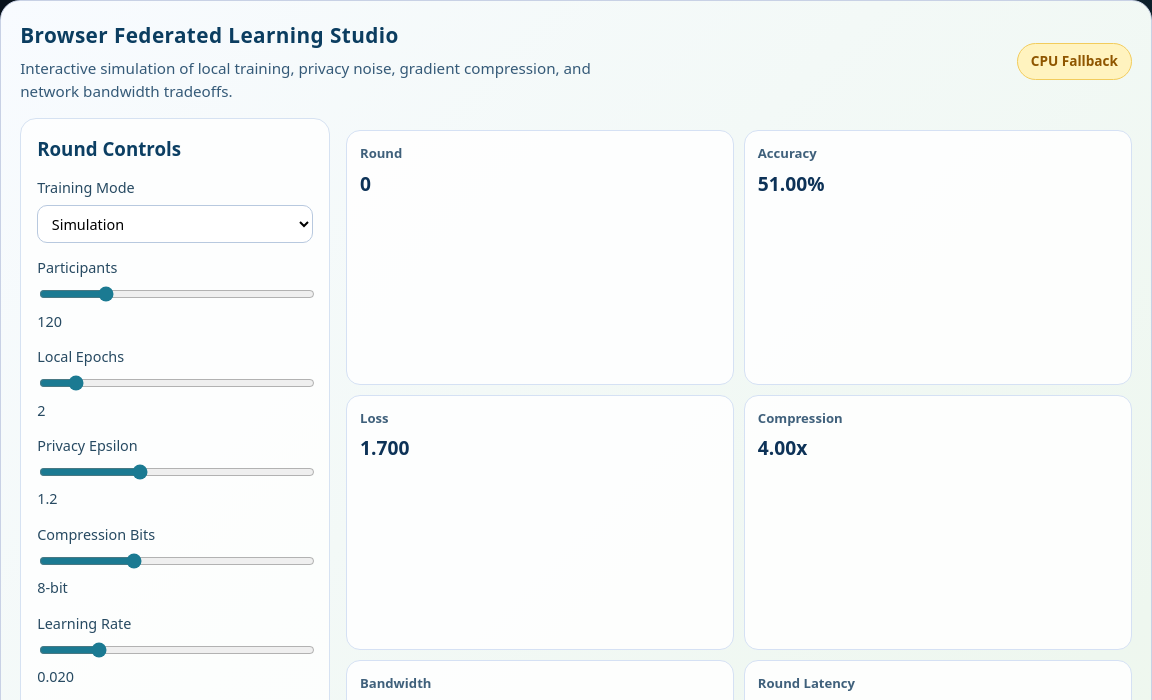
Test: BrowserFLDemo Component › User Input › updates epsilon slider
Set the slider labelled "Privacy Epsilon 1.2" to "2.0" at (214, 472), box [39,464,315,480]
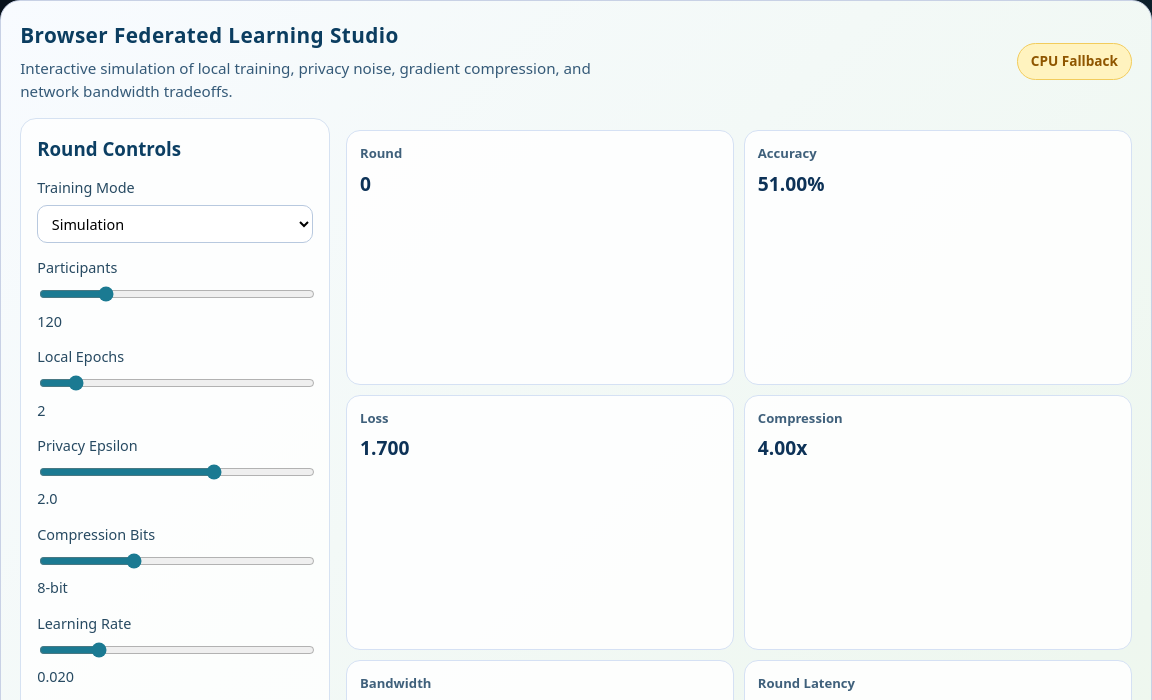
Check: the slider labelled "Privacy Epsilon 2.0" holds "2", box [39,464,315,480]
